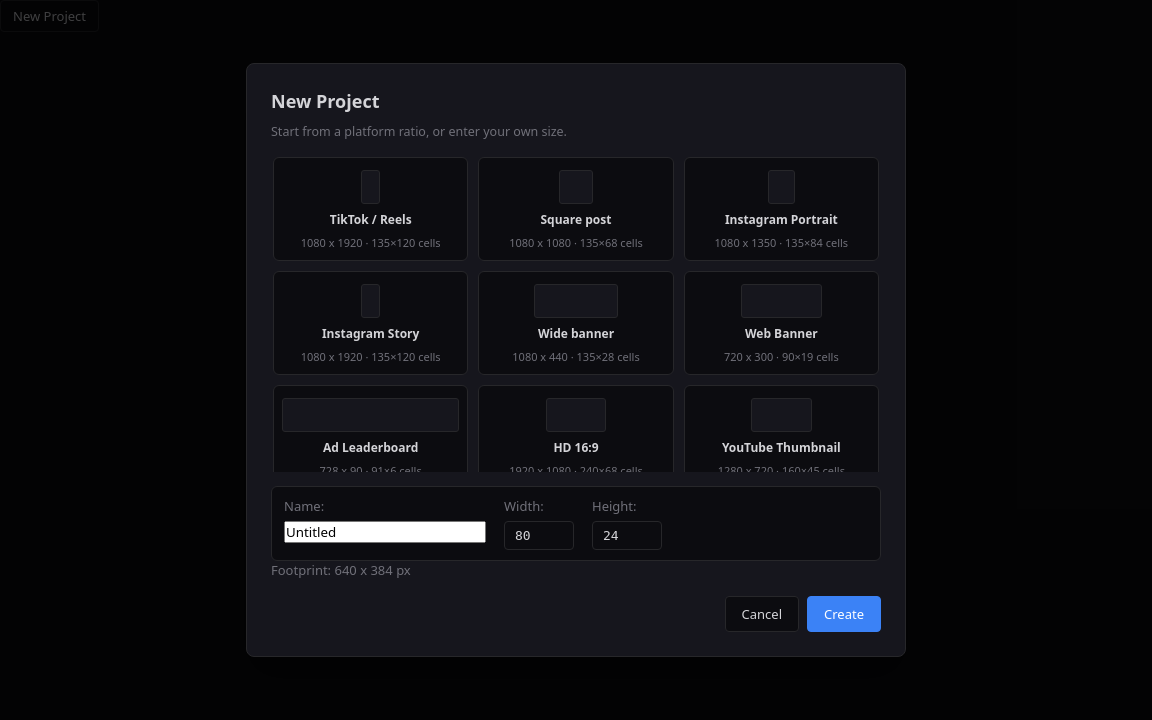
Test: <NewProjectModal /> launch picker › applies the clicked ratio to name, width and height
Click the radio button labelled "Web Banner 720 x 300 · 90×19 cells": (781, 324) [684,272,879,376]
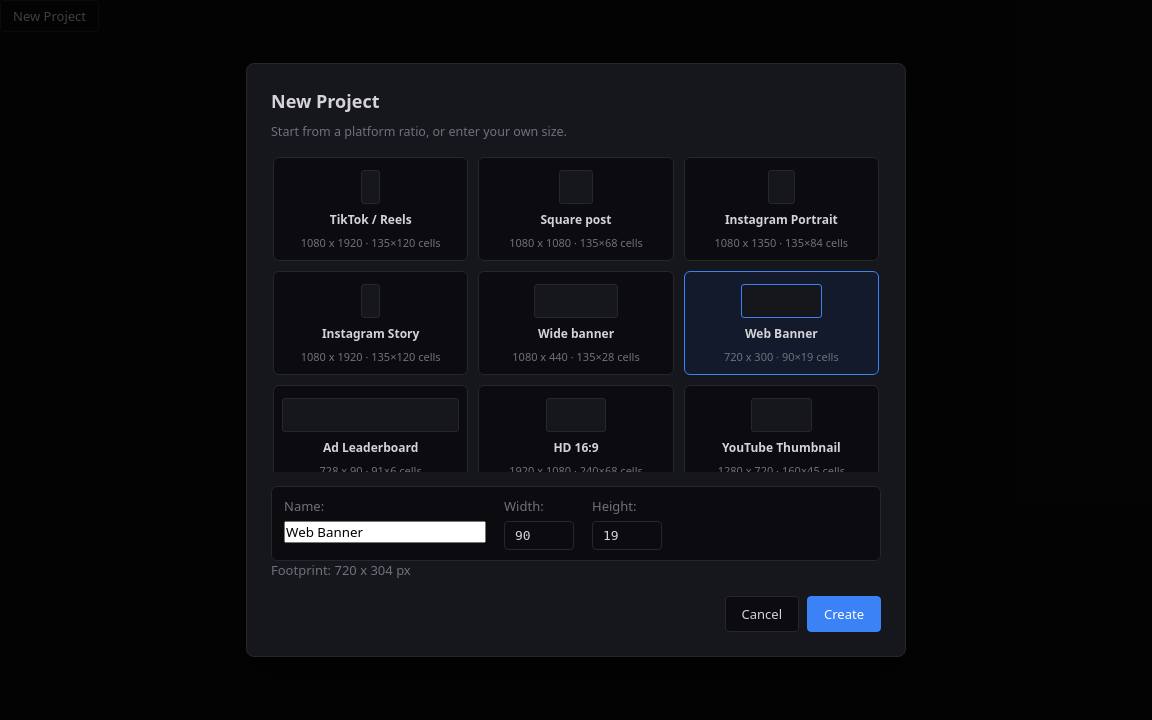
Now the field holds "Web Banner", box [284,521,486,543]
Now the number field below "Width:" holds "90", box [504,521,574,550]
Now the number field below "Height:" holds "19", box [592,521,662,550]
